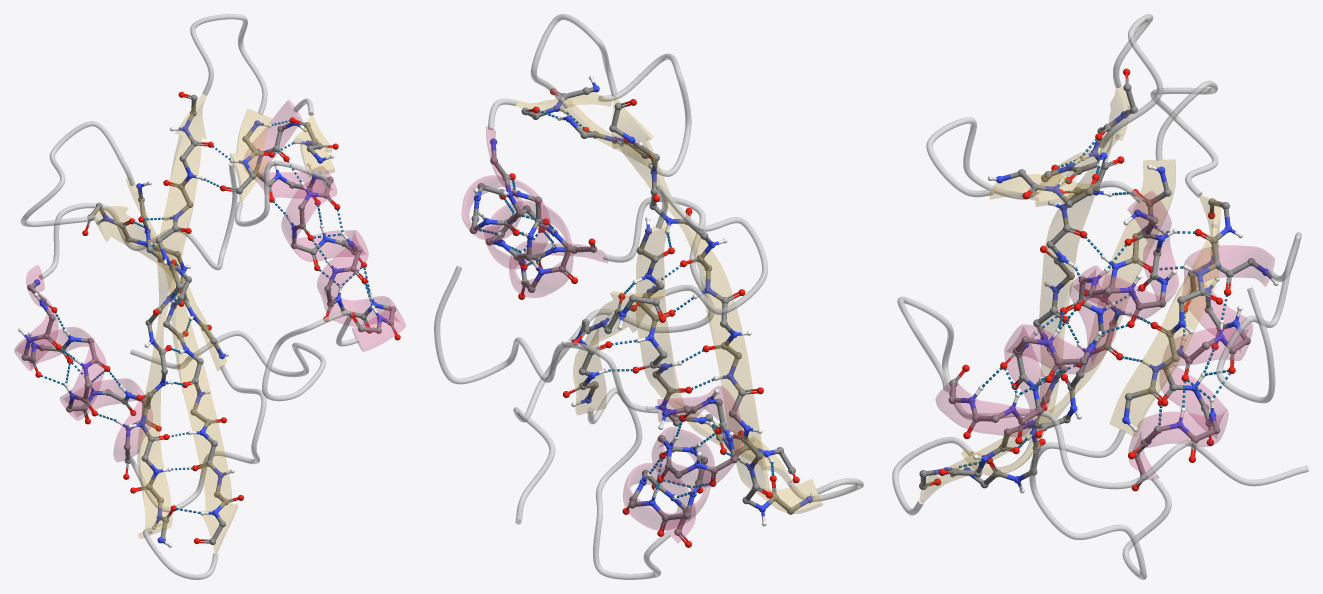
The model's file is 1SPR_2Structure.glb.
3 views of the same model, side by side, from view 1: azimuth 30°, elevation 25°; view 2: azimuth 150°, elevation 25°; view 3: azimuth 270°, elevation 25° (orthographic). The views are drawn at different scales.
Parts seen in each view (by area): view 1: Mesh_0; view 2: Mesh_0; view 3: Mesh_0.
Boxes of the visible parts, left/top/right/bottom form: Mesh_0: left=14, top=14, right=405, bottom=579; Mesh_0: left=434, top=14, right=863, bottom=579; Mesh_0: left=892, top=14, right=1308, bottom=579.
Size of the model in its own units: 0.3329 by 0.5155 by 0.3367.
